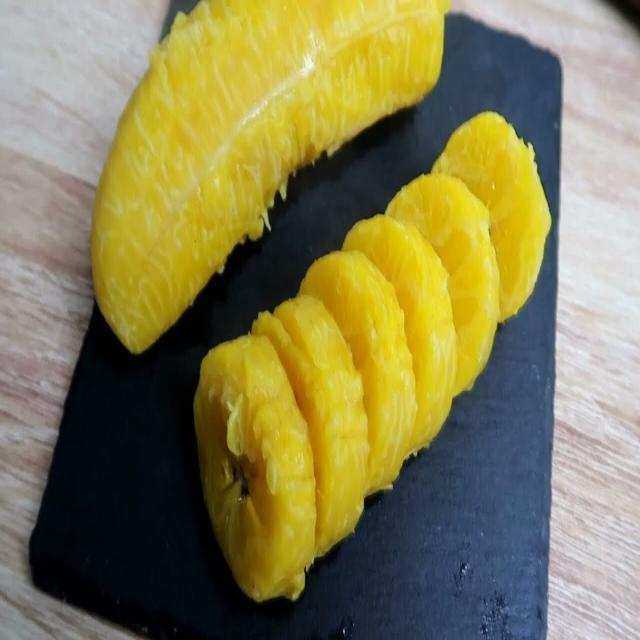platano: (80, 4, 452, 368), (191, 336, 319, 612), (250, 283, 374, 559)
